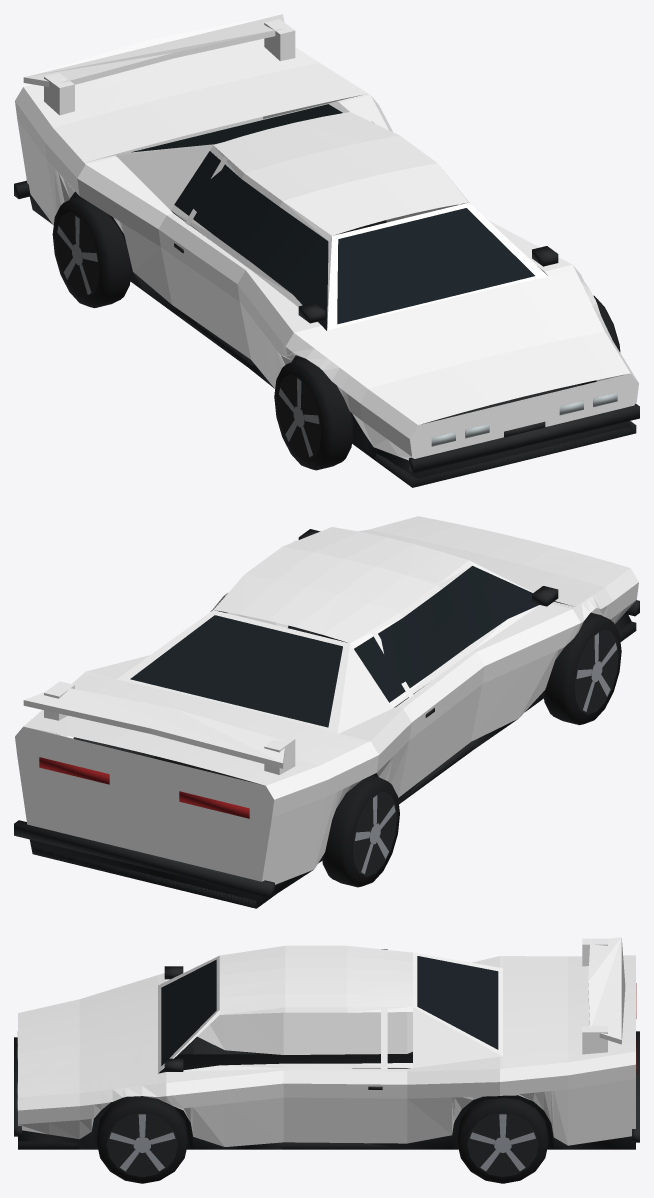
File: tridella_cutelo.glb
3 views of the same model, one above another, from view 1: azimuth 30°, elevation 25°; view 2: azimuth 150°, elevation 25°; view 3: azimuth 270°, elevation 25° (orthographic). The views are drawn at different scales.
Parts seen in each view (by area): view 1: Body_Paint, Body_Details, Mount_FrontLeft_Wheel_Details, Mount_RearLeft_Wheel_Details; view 2: Body_Paint, Body_Details, Mount_RearLeft_Wheel_Details, Mount_FrontLeft_Wheel_Details; view 3: Body_Paint, Body_Details, Mount_FrontRight_Wheel_Details, Mount_RearRight_Wheel_Details.
Boxes of the visible parts, x1,y1,x2,y2 form: Body_Paint: [15, 14, 638, 460]; Body_Details: [14, 104, 639, 487]; Mount_FrontLeft_Wheel_Details: [274, 358, 353, 470]; Mount_RearLeft_Wheel_Details: [52, 196, 131, 308]; Body_Paint: [15, 516, 638, 884]; Body_Details: [14, 529, 639, 908]; Mount_RearLeft_Wheel_Details: [322, 775, 399, 887]; Mount_FrontLeft_Wheel_Details: [543, 613, 621, 725]; Body_Paint: [18, 937, 635, 1146]; Body_Details: [14, 956, 639, 1149]; Mount_FrontRight_Wheel_Details: [96, 1096, 188, 1183]; Mount_RearRight_Wheel_Details: [457, 1098, 548, 1183].
Size of the model in its own units: 1.98 by 1.18 by 4.38.
Materials: 2 (1 with a texture image).
